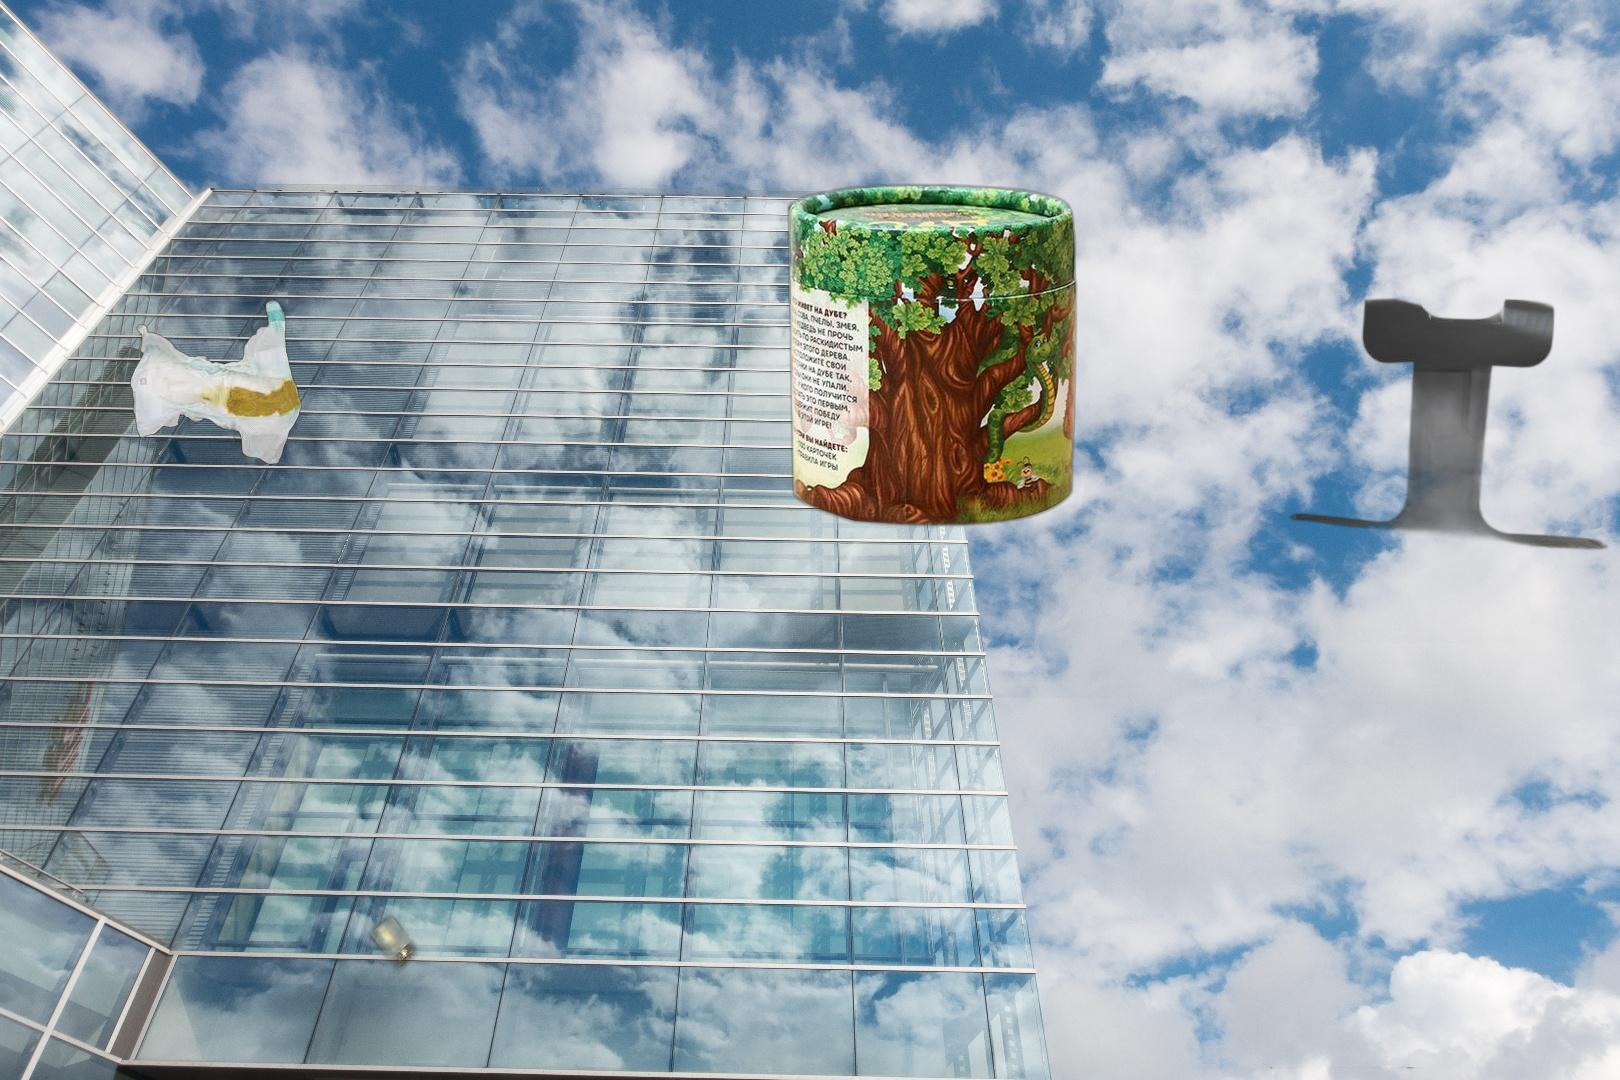glass: (233, 425, 745, 1080)
trash: (127, 297, 304, 466)
trashbox-cardboard: (698, 178, 1172, 698), (1256, 293, 1616, 642), (1270, 1067, 1620, 1080)
